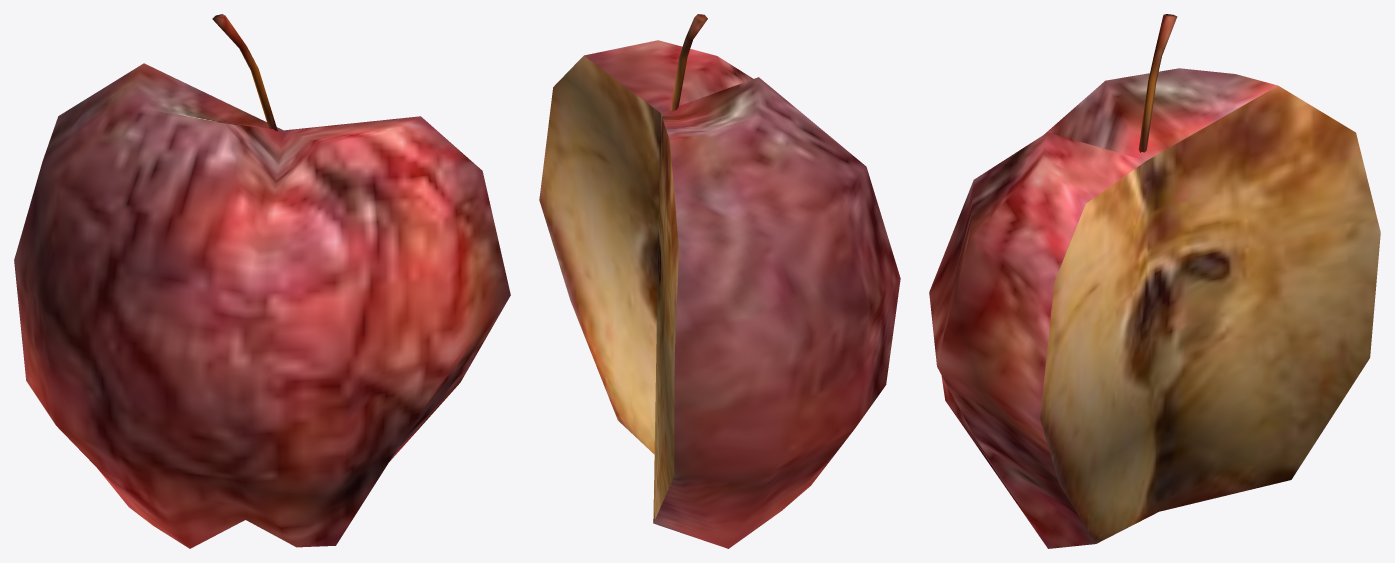
The model's file is rotten_apple.FBX.
3 renders of one model, left to right at view 1: azimuth 30°, elevation 25°; view 2: azimuth 150°, elevation 25°; view 3: azimuth 270°, elevation 25°, orthographic. The views are drawn at different scales.
Parts seen in each view (by area): view 1: rotten_apple; view 2: rotten_apple; view 3: rotten_apple.
Part boxes in pixels (<box>): rotten_apple: <box>14,14,510,548</box>; rotten_apple: <box>539,14,900,548</box>; rotten_apple: <box>929,14,1380,548</box>.
Bounding box in the file's own units: 10.48 × 12.6 × 10.17.
